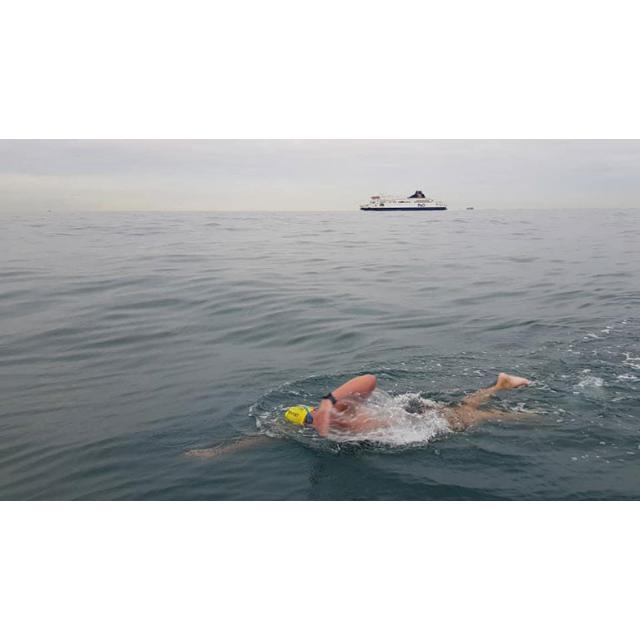human: (185, 364, 533, 459)
